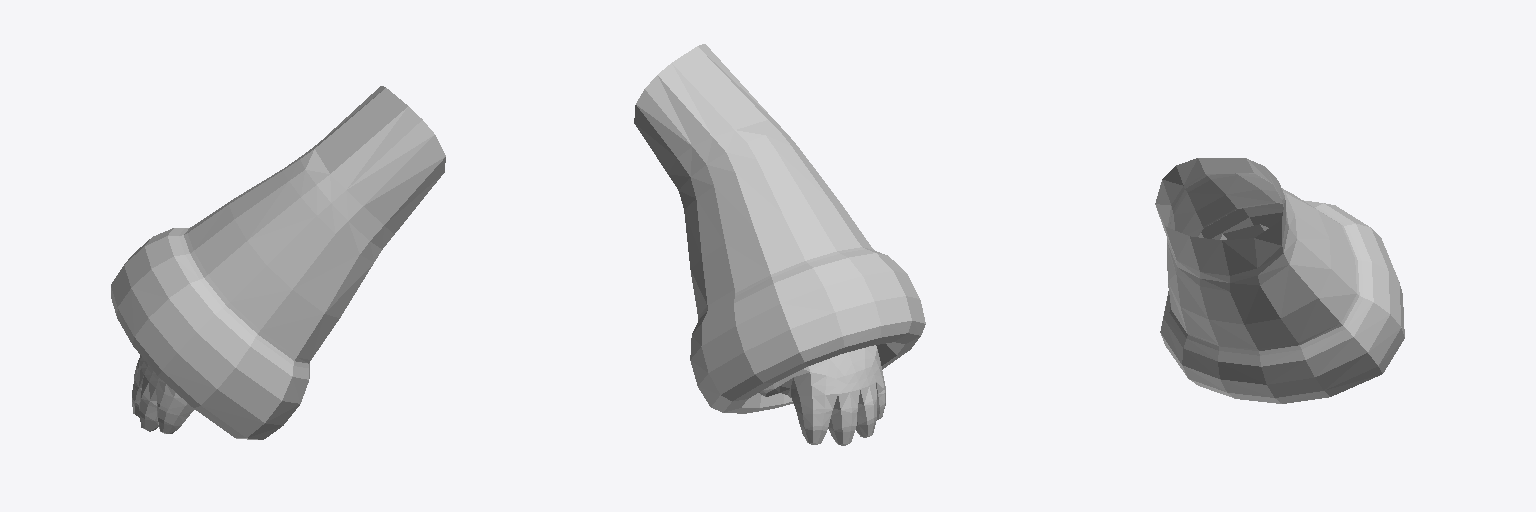
The model's file is brazo_izq.obj.
The picture shows the model from 3 angles: view 1: azimuth 30°, elevation 25°; view 2: azimuth 150°, elevation 25°; view 3: azimuth 270°, elevation 25°; orthographic projection.
Visible parts, largest first — view 1: Body_jinsters_padoru.003; view 2: Body_jinsters_padoru.003; view 3: Body_jinsters_padoru.003.
Part boxes in pixels (left/top/right/bottom): Body_jinsters_padoru.003: left=111, top=86, right=445, bottom=439; Body_jinsters_padoru.003: left=634, top=44, right=925, bottom=445; Body_jinsters_padoru.003: left=1155, top=158, right=1404, bottom=403.
Bounding box in the file's own units: 0.0986 × 0.1086 × 0.0803.